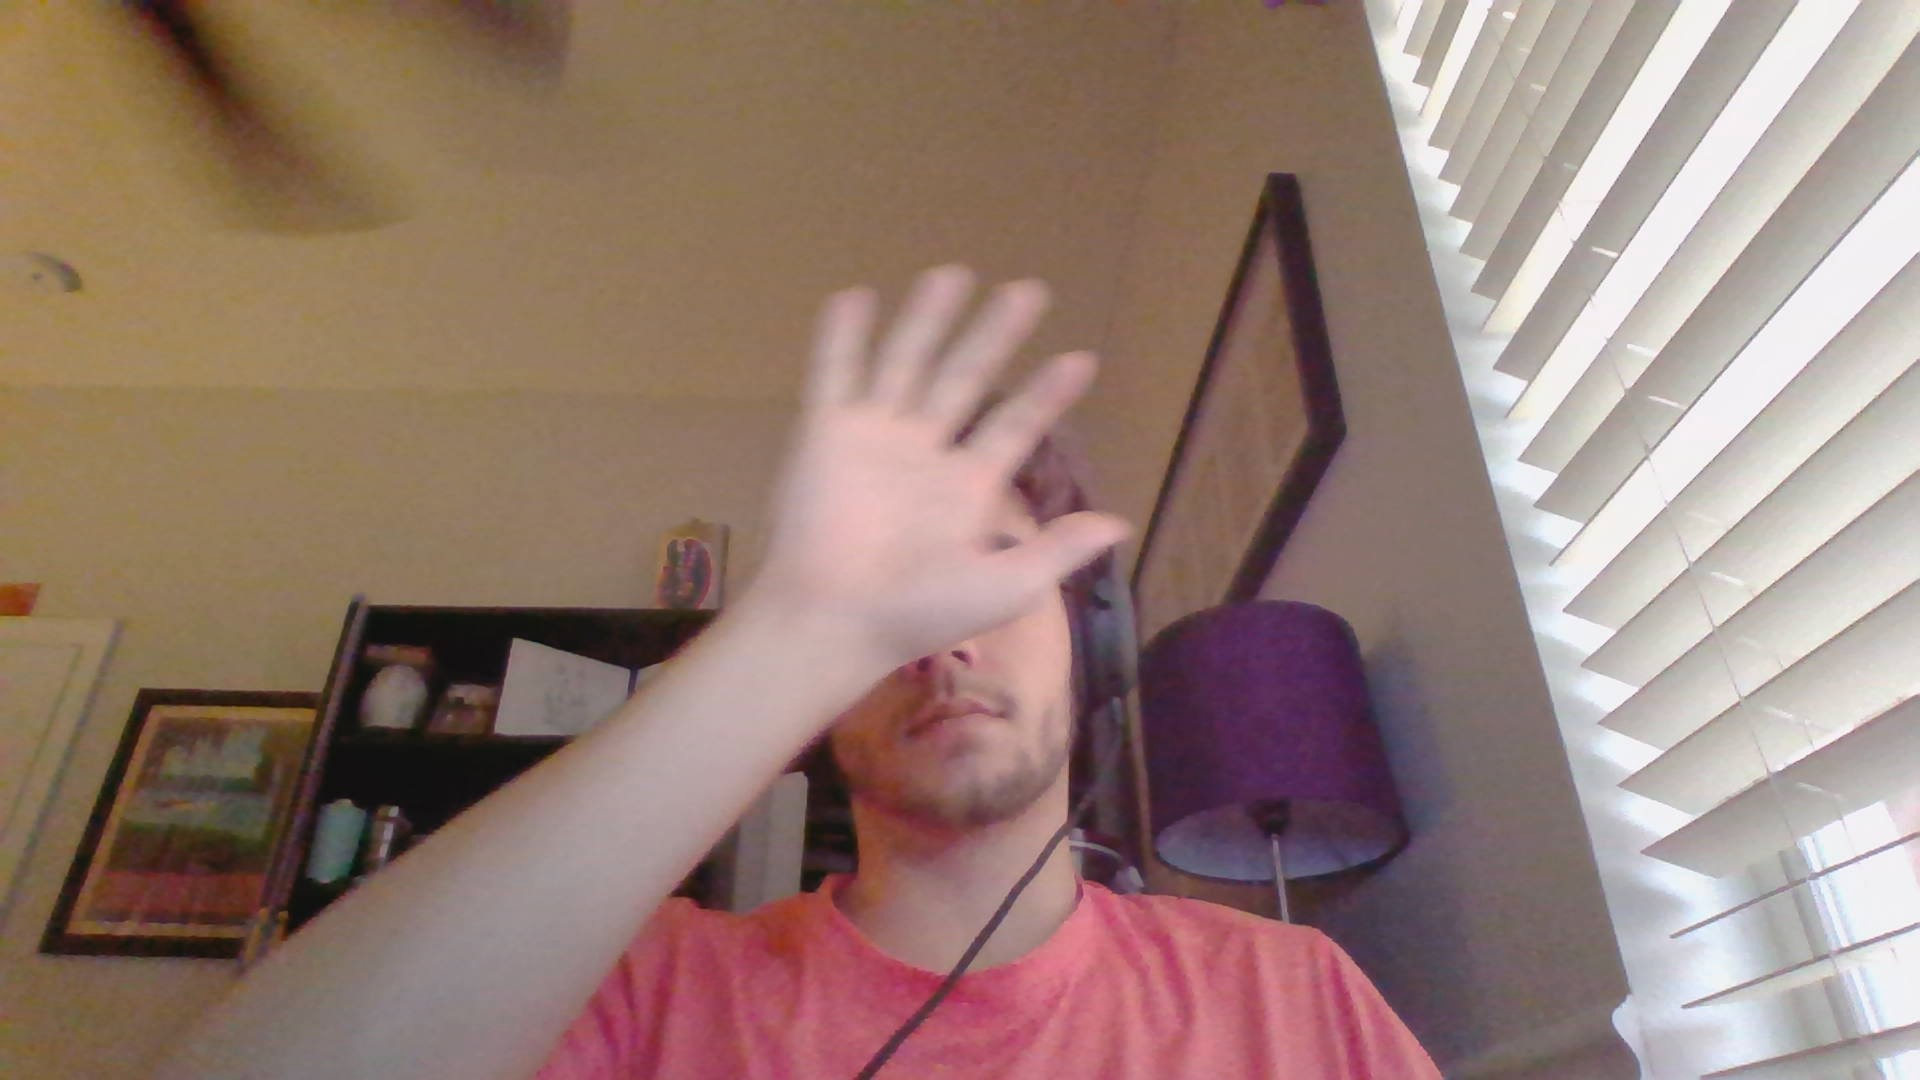Right Palm Up: (746, 255, 1139, 663)
